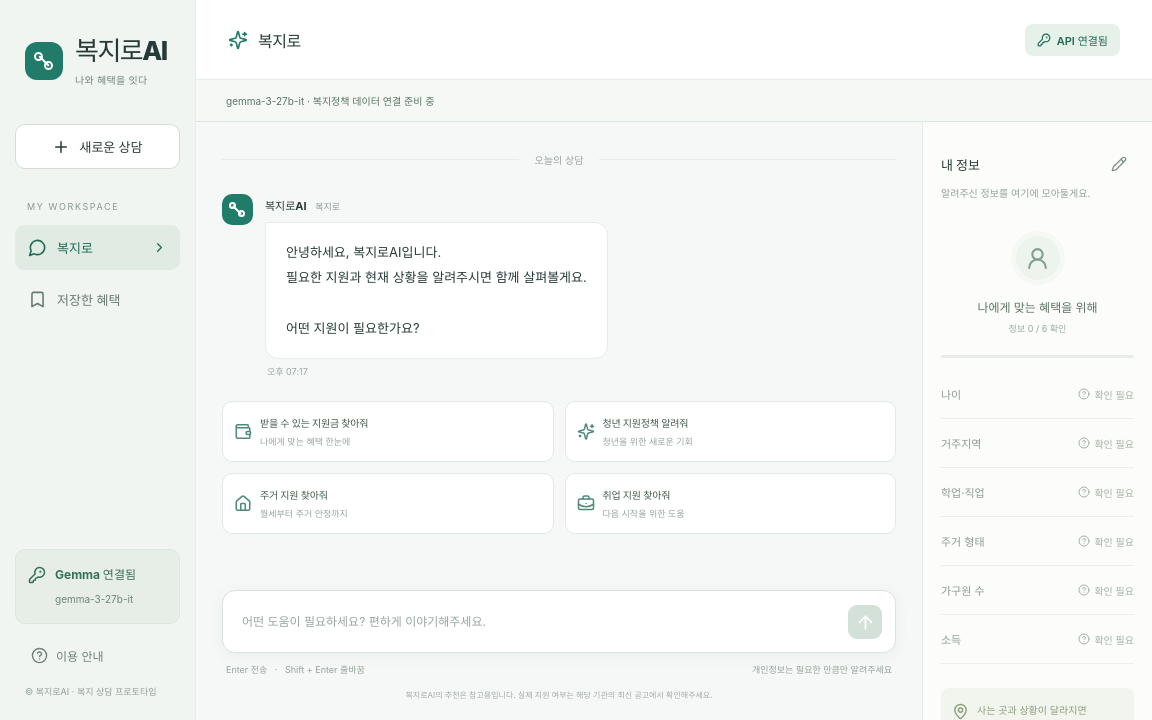
chat interface › preserves Shift+Enter and Korean IME input, then sends on Enter
Type "대학생" into the text box named "메시지 입력" at (540, 622), box [242, 605, 838, 639]
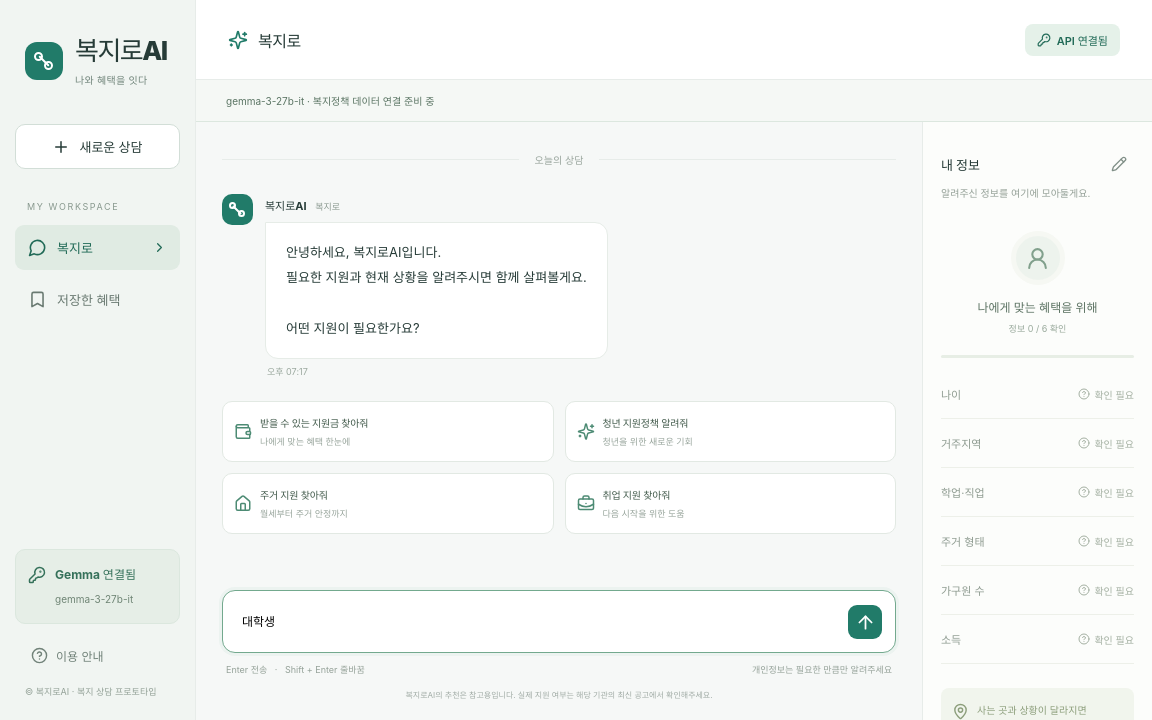
Type keys "{Shift>}{Enter}{/Shift}"
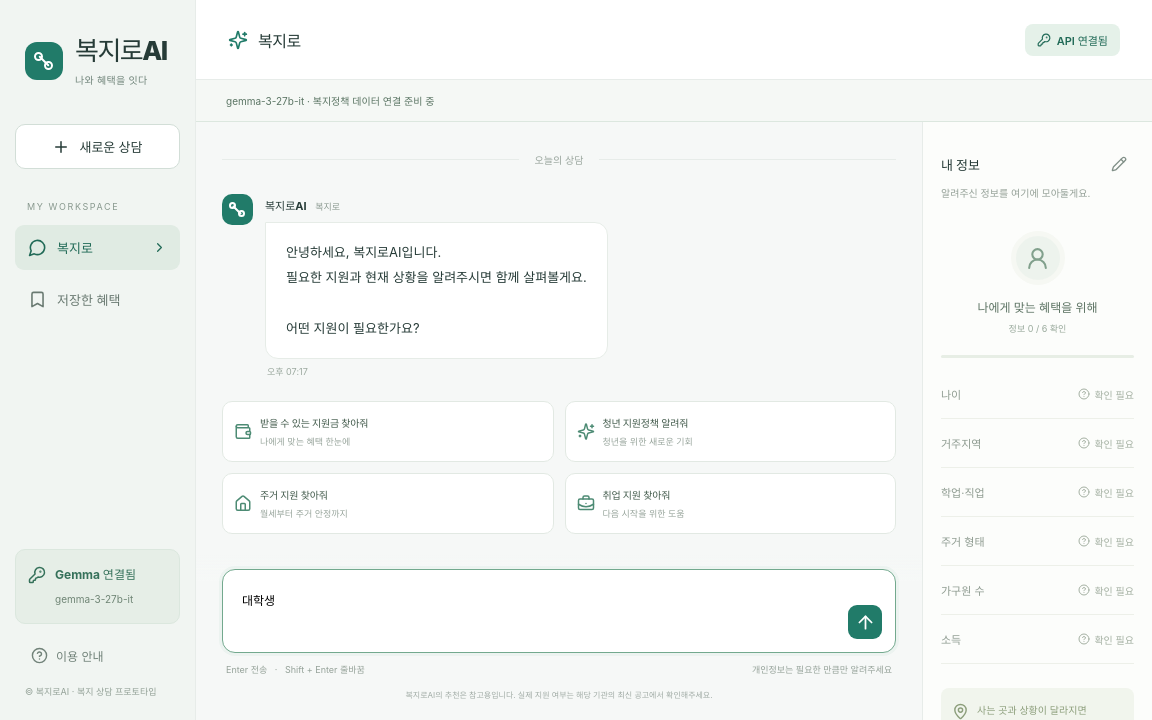
Press Enter in the text box named "메시지 입력", box [242, 584, 838, 639]
Press Enter
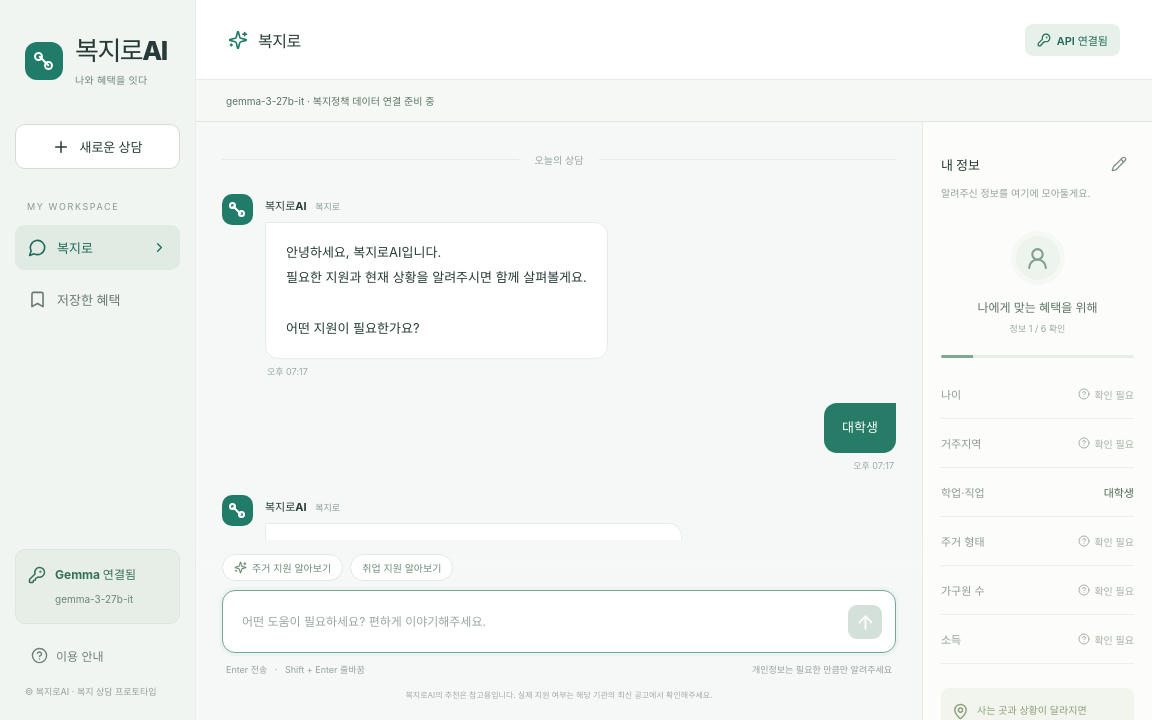
Check: the element named "내 메시지" shows "대학생", box [842, 419, 878, 435]
Check: the text box named "메시지 입력" is empty, box [242, 605, 838, 639]
